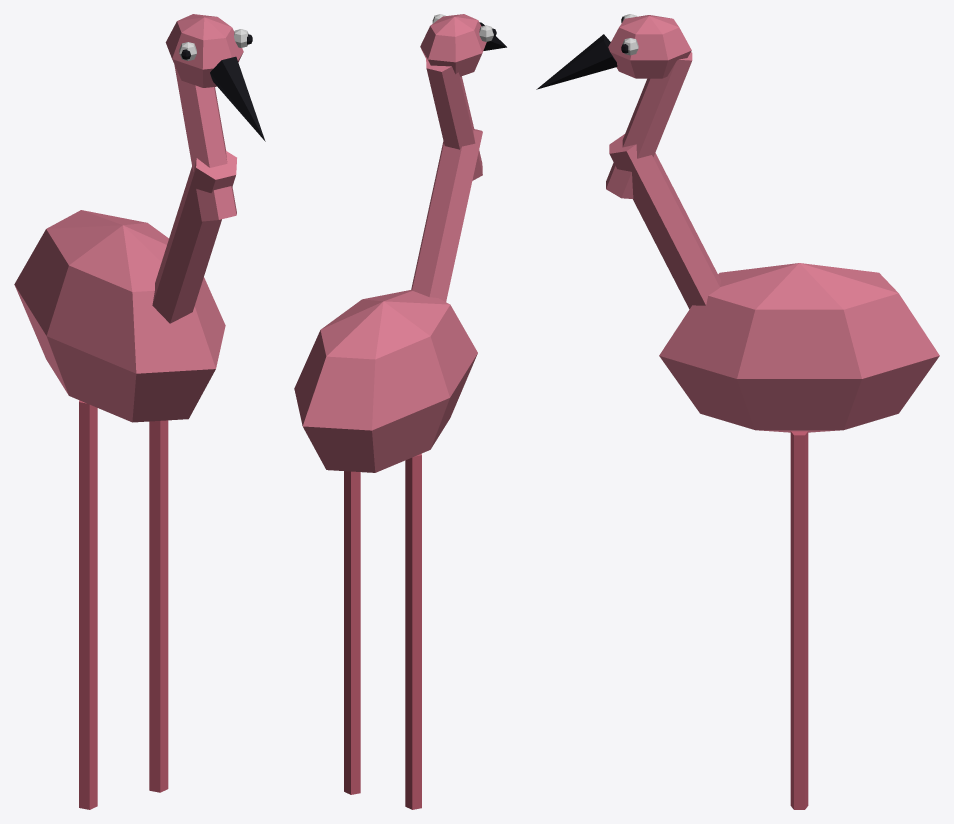
Rendered from flamingo.glb.
The picture shows the model from 3 angles, left to right: view 1: azimuth 30°, elevation 25°; view 2: azimuth 150°, elevation 25°; view 3: azimuth 270°, elevation 25°; orthographic projection. The views are drawn at different scales.
Parts seen in each view (by area): view 1: flamingo; view 2: flamingo; view 3: flamingo.
Boxes of the visible parts, x1,y1,x2,y2 form: flamingo: [14, 14, 265, 809]; flamingo: [294, 14, 506, 809]; flamingo: [536, 14, 939, 809].
Bounding box in the file's own units: 0.2471 × 1.36 × 0.6449.
